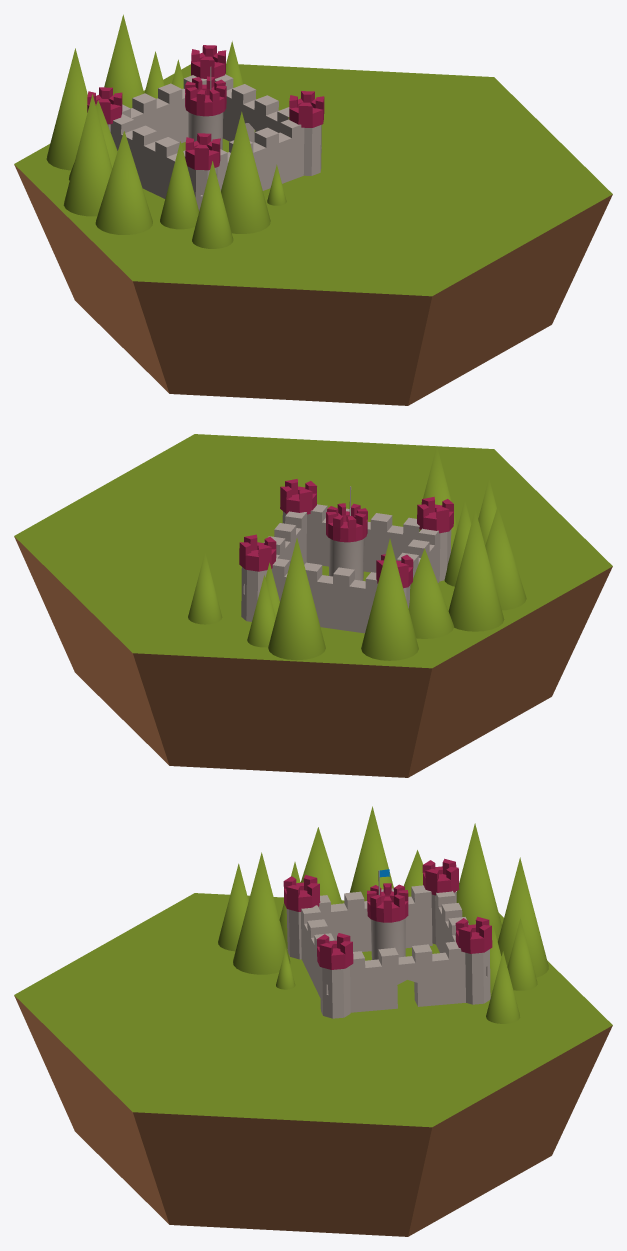
File: Island01.gltf
3 views of the same model, one above another, from view 1: azimuth 30°, elevation 25°; view 2: azimuth 150°, elevation 25°; view 3: azimuth 270°, elevation 25° (orthographic).
Parts seen in each view (by area): view 1: Island01Base, island01trees, island01castle; view 2: Island01Base, island01trees, island01castle; view 3: Island01Base, island01castle, island01trees.
Boxes of the visible parts, box(x1,y1,x2,y2) form: Island01Base: box(14, 64, 612, 405); island01trees: box(46, 14, 286, 248); island01castle: box(87, 45, 324, 210); Island01Base: box(14, 434, 612, 777); island01trees: box(188, 446, 526, 660); island01castle: box(239, 479, 453, 633); Island01Base: box(14, 893, 612, 1236); island01castle: box(283, 858, 492, 1018); island01trees: box(218, 806, 548, 1023).
Bounding box in the file's own units: 26.85 × 13.05 × 29.
